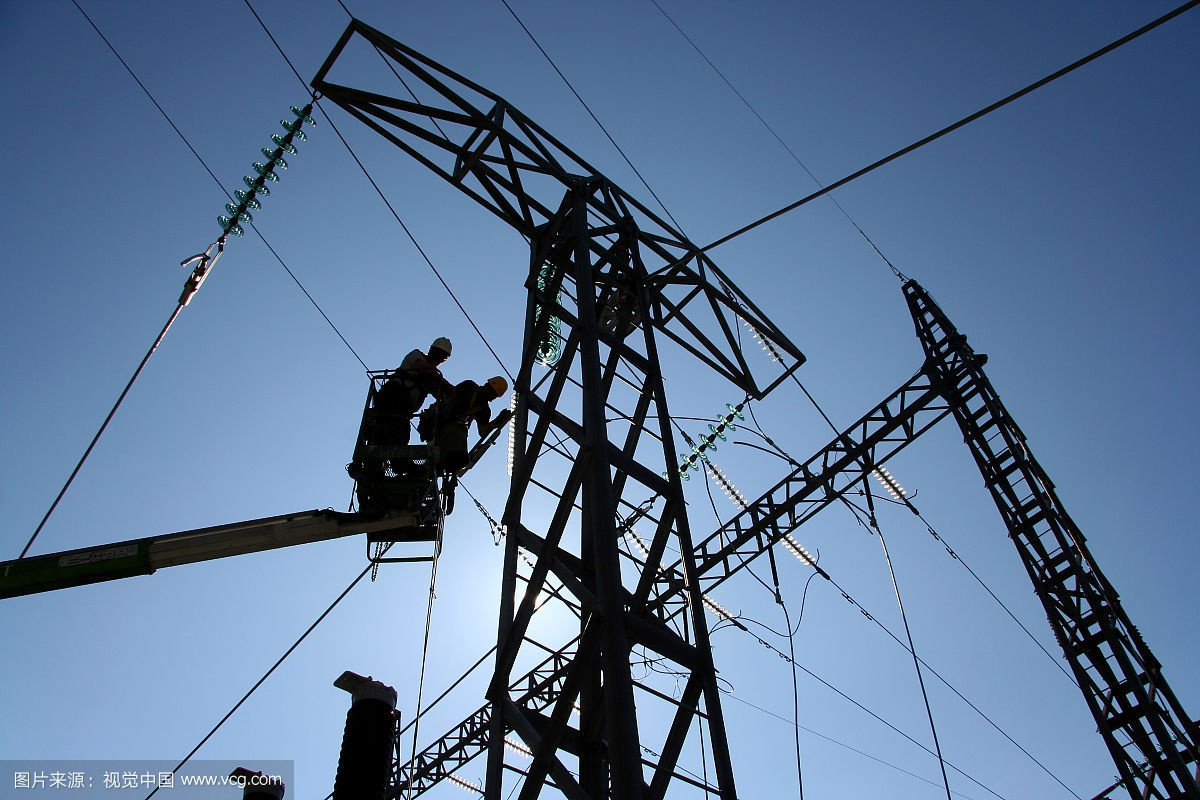white: (429, 336, 453, 364)
yellow: (483, 374, 508, 400)
